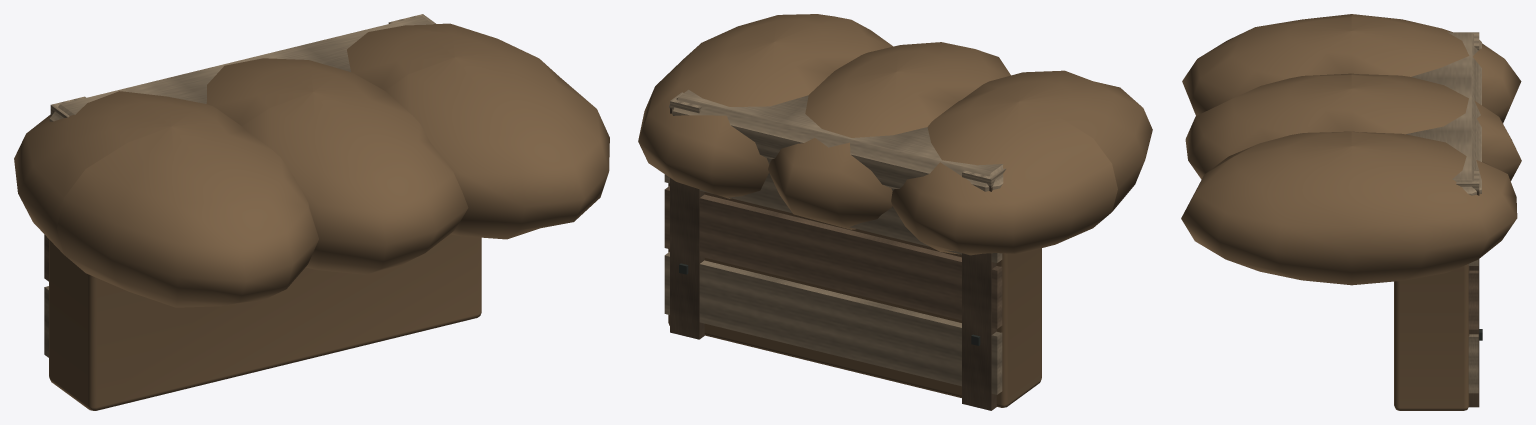
The model's file is trench_revetment.glb.
3 renders of one model, left to right at view 1: azimuth 30°, elevation 25°; view 2: azimuth 150°, elevation 25°; view 3: azimuth 270°, elevation 25°, orthographic. The views are drawn at different scales.
Parts seen in each view (by area): view 1: Earth revetment, Timber worn edges; view 2: Earth revetment, Timber worn edges, Weathered timber, Dark endgrain; view 3: Earth revetment, Timber worn edges, Weathered timber, Dark endgrain.
Boxes of the visible parts, x1,y1,x2,y2 form: Earth revetment: [14, 23, 609, 410]; Timber worn edges: [44, 14, 435, 357]; Earth revetment: [638, 14, 1152, 407]; Timber worn edges: [664, 89, 1005, 394]; Weathered timber: [664, 186, 1002, 328]; Dark endgrain: [670, 108, 997, 410]; Earth revetment: [1181, 14, 1521, 410]; Timber worn edges: [1406, 32, 1481, 393]; Weathered timber: [1468, 270, 1478, 329]; Dark endgrain: [1469, 190, 1479, 407].
Size of the model in its own units: 0.523 by 0.287 by 0.3624.
5 materials, 3 textured.
